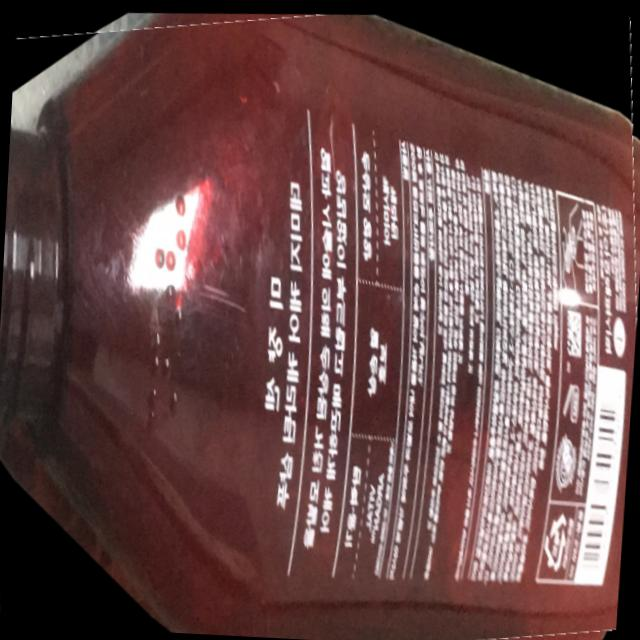plastic: (0, 11, 637, 640)
